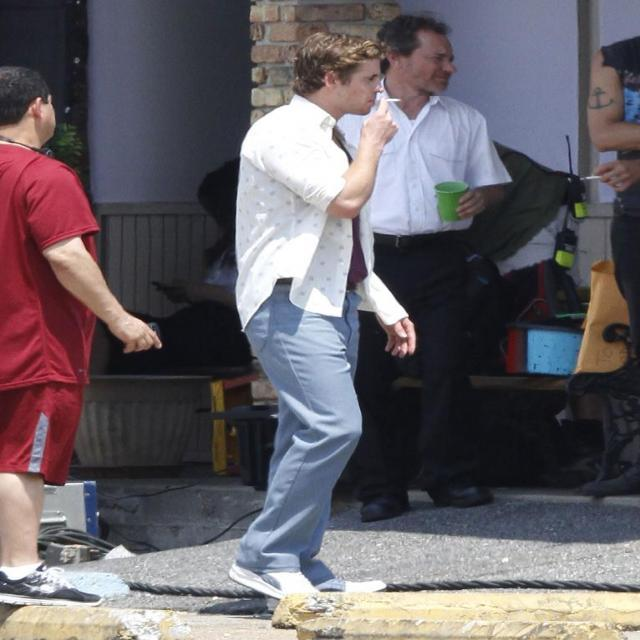cigarette: (368, 90, 408, 109)
